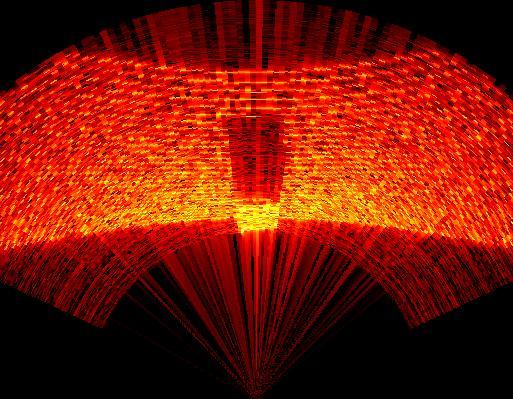box_crate: (225, 119, 289, 226)
